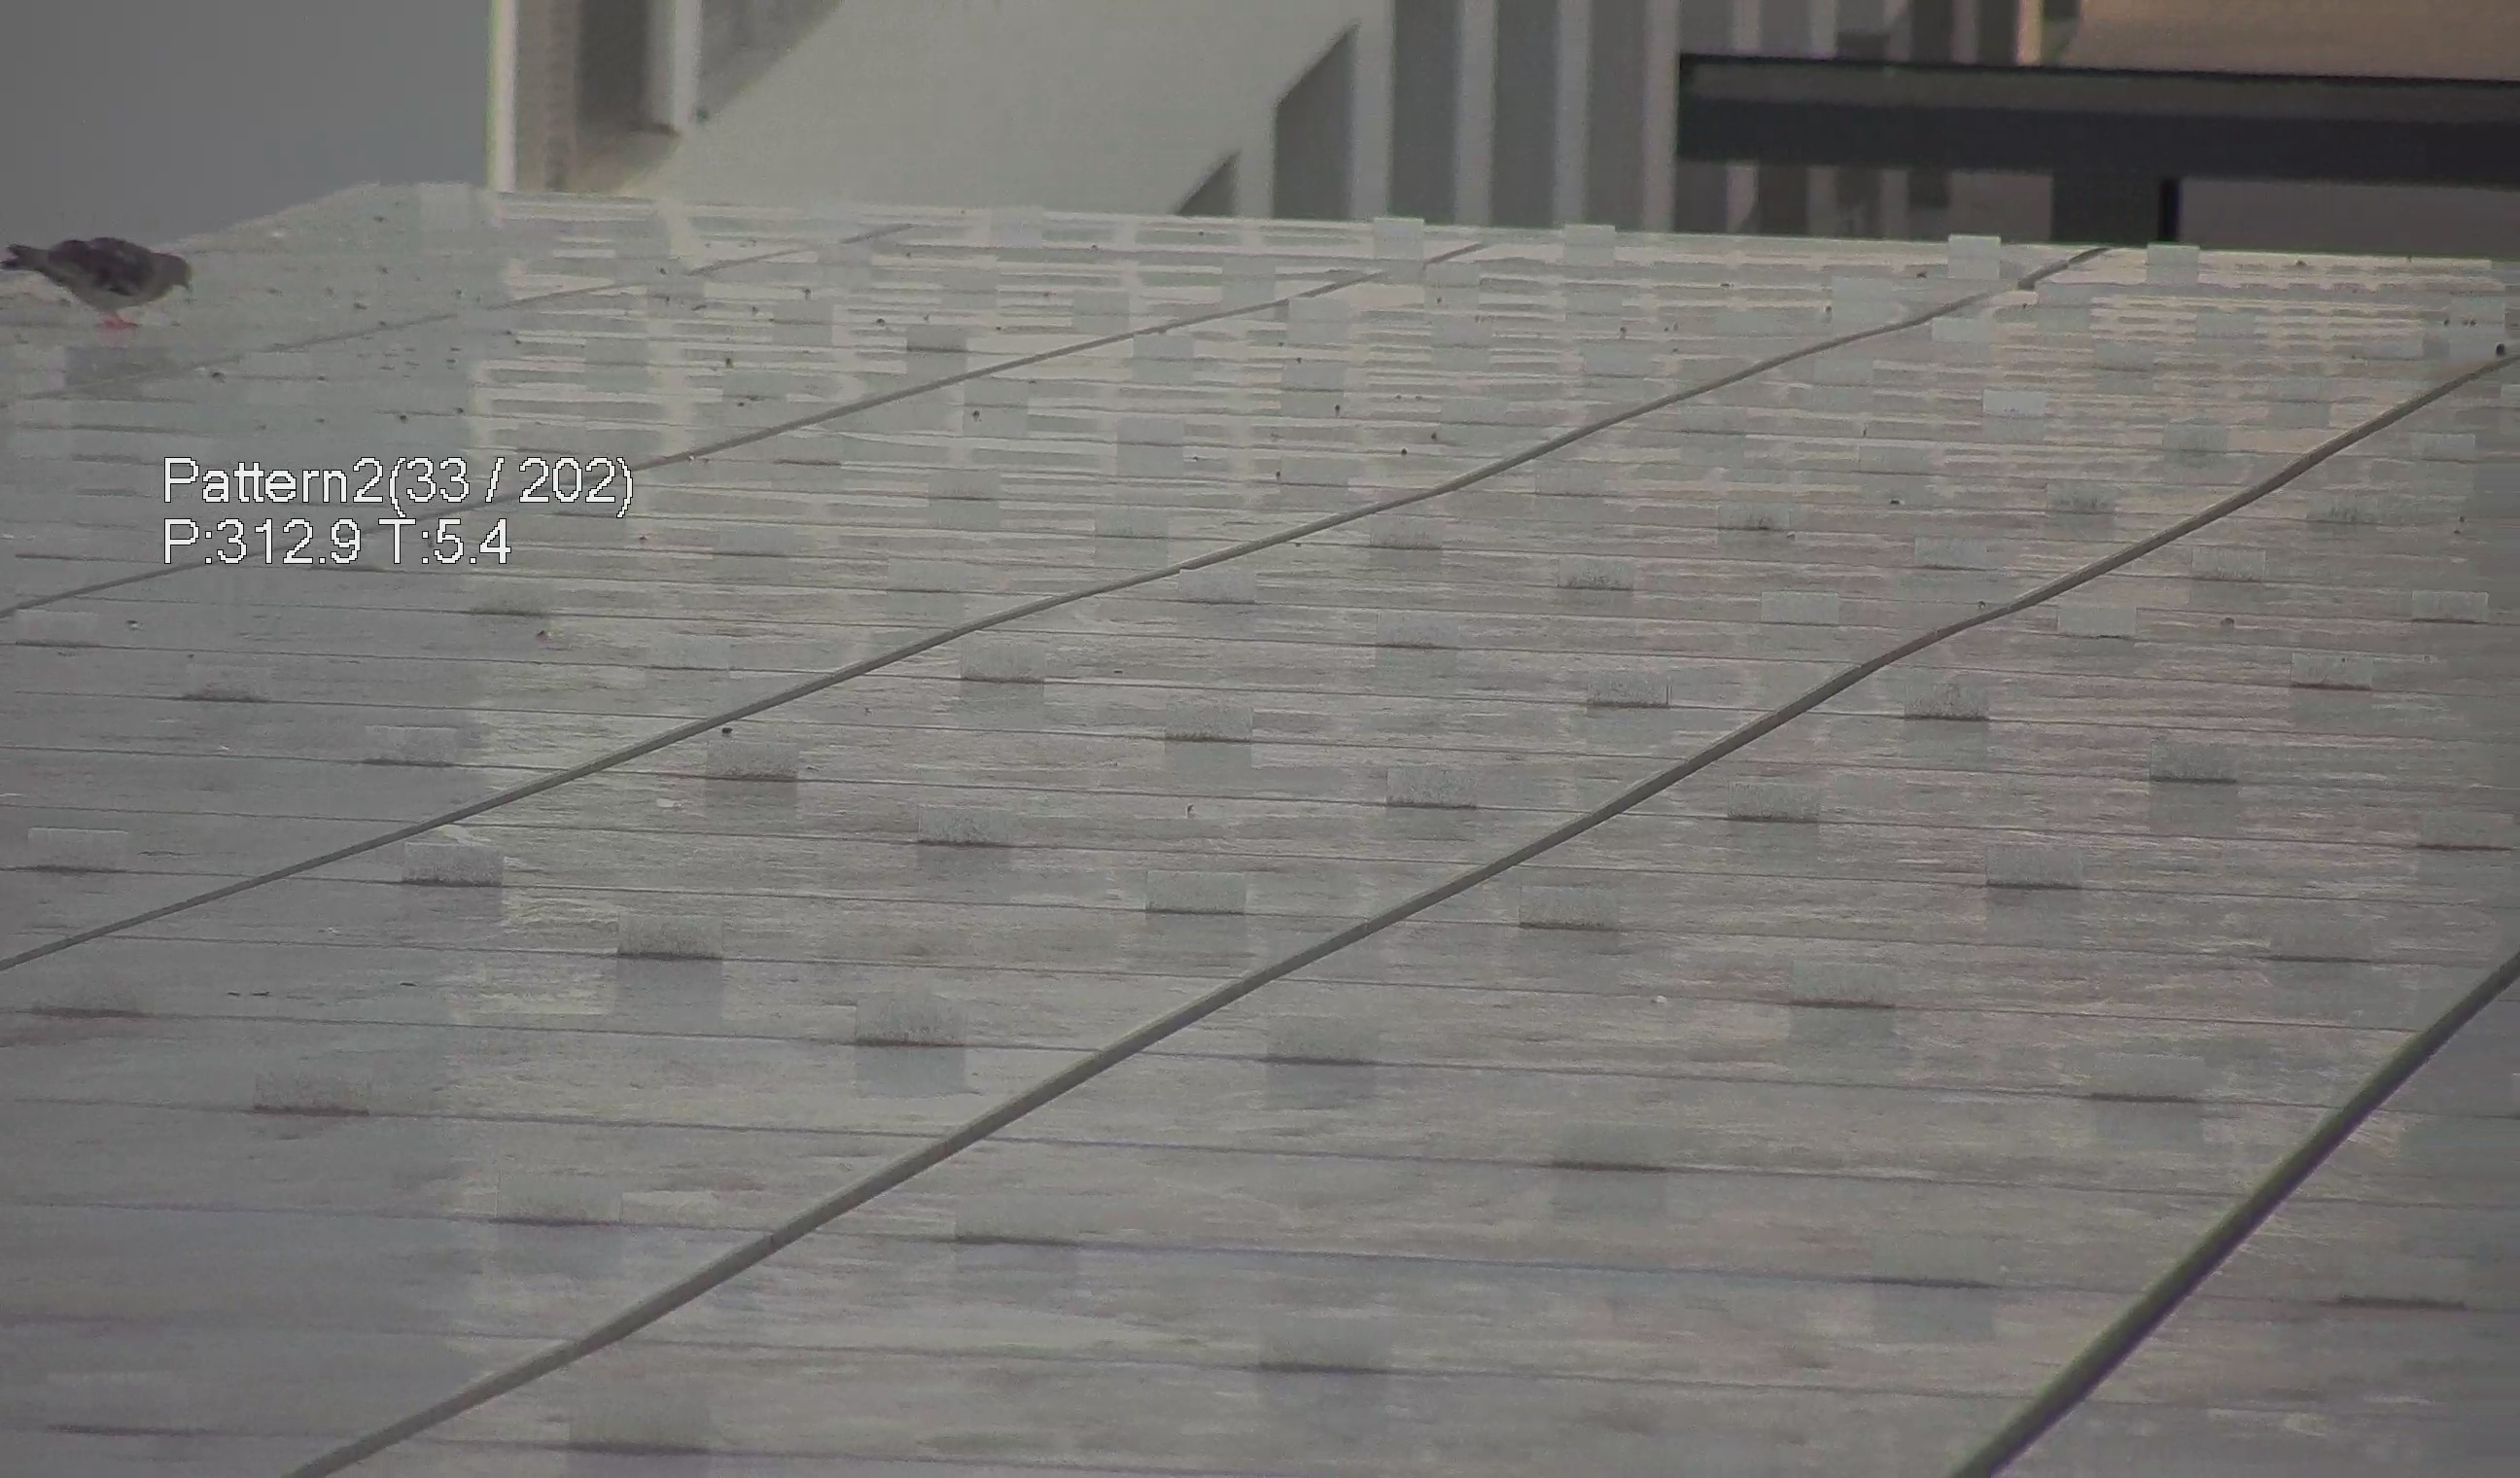Pigeon: (9, 211, 192, 326)
